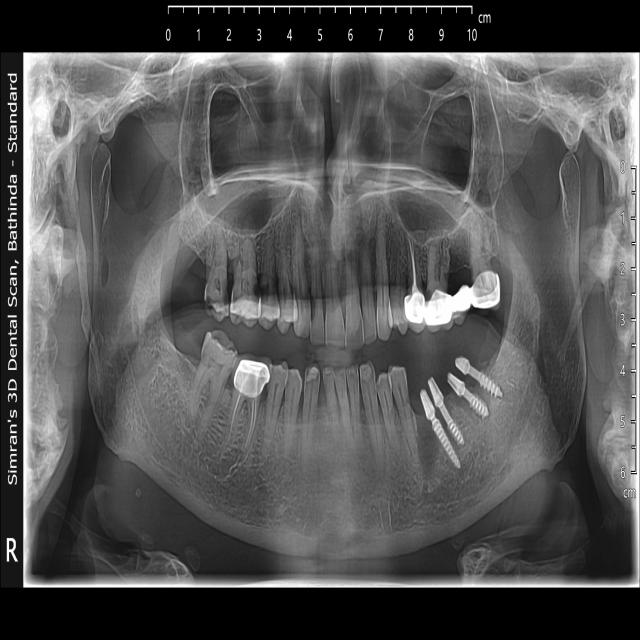Caries: (206, 266, 230, 323), (308, 295, 326, 340), (426, 267, 436, 301), (254, 276, 268, 298)
Crown: (405, 268, 502, 331)
Filling: (303, 367, 318, 398), (360, 366, 374, 397)
Implant: (420, 389, 460, 470), (428, 379, 466, 447), (445, 373, 489, 419), (455, 356, 502, 399)
Missing teeth: (451, 240, 469, 285)
Periapical lesion: (439, 240, 450, 274)
Root Canal Treatment: (221, 357, 270, 455), (403, 233, 425, 333)
